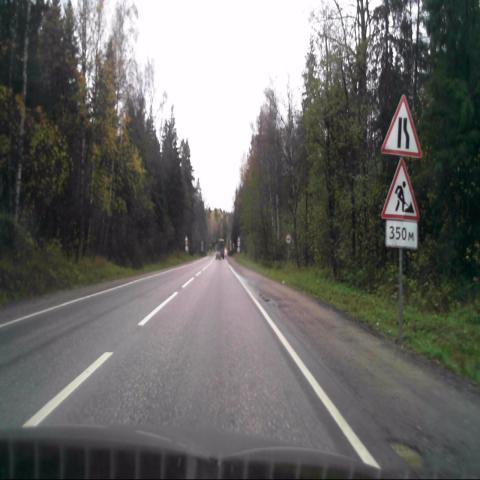1_25: (382, 160, 419, 222)
8_1_1: (386, 223, 418, 249)
